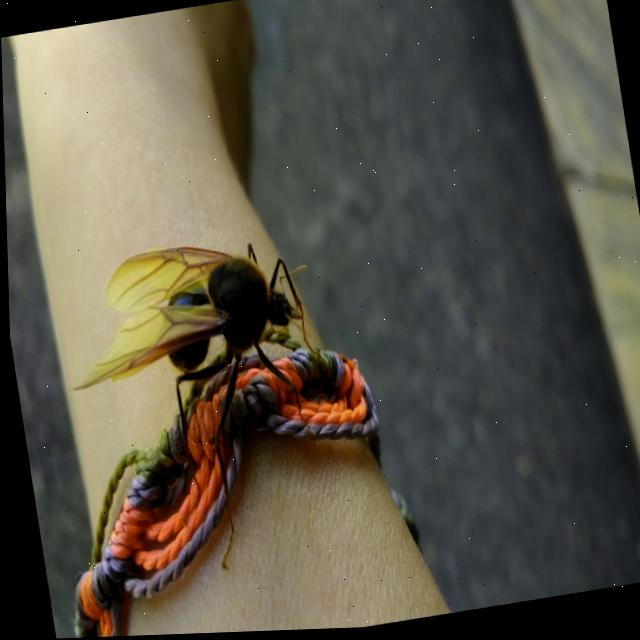Alive-Male-Alate: (50, 226, 348, 593)
